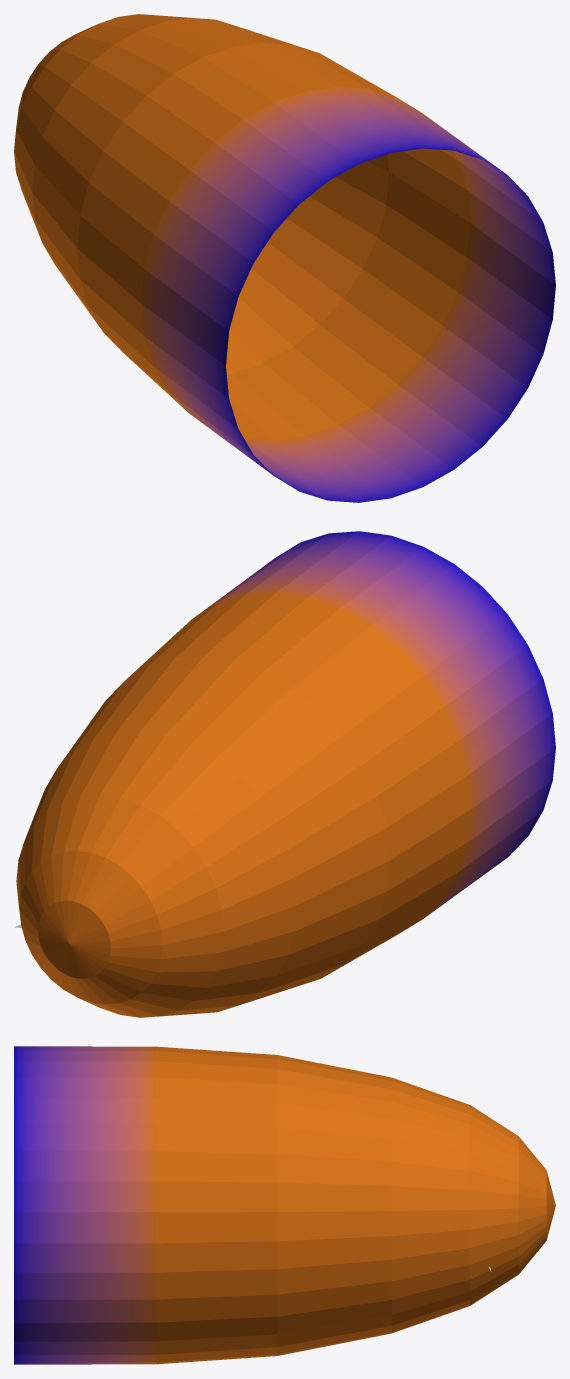
Rendered from pref_fx_greedent_spell01A_atk02_lv2.fbx.
3 views of the same model, one above another, from view 1: azimuth 30°, elevation 25°; view 2: azimuth 150°, elevation 25°; view 3: azimuth 270°, elevation 25° (orthographic). The views are drawn at different scales.
Visible parts, largest first — view 1: gq; view 2: gq; view 3: gq.
Part boxes in pixels (left/top/right/bottom): gq: left=14, top=14, right=555, bottom=502; gq: left=16, top=531, right=555, bottom=1017; gq: left=14, top=1046, right=555, bottom=1364.
Bounding box in the file's own units: 1.12 × 1.12 × 1.91.
